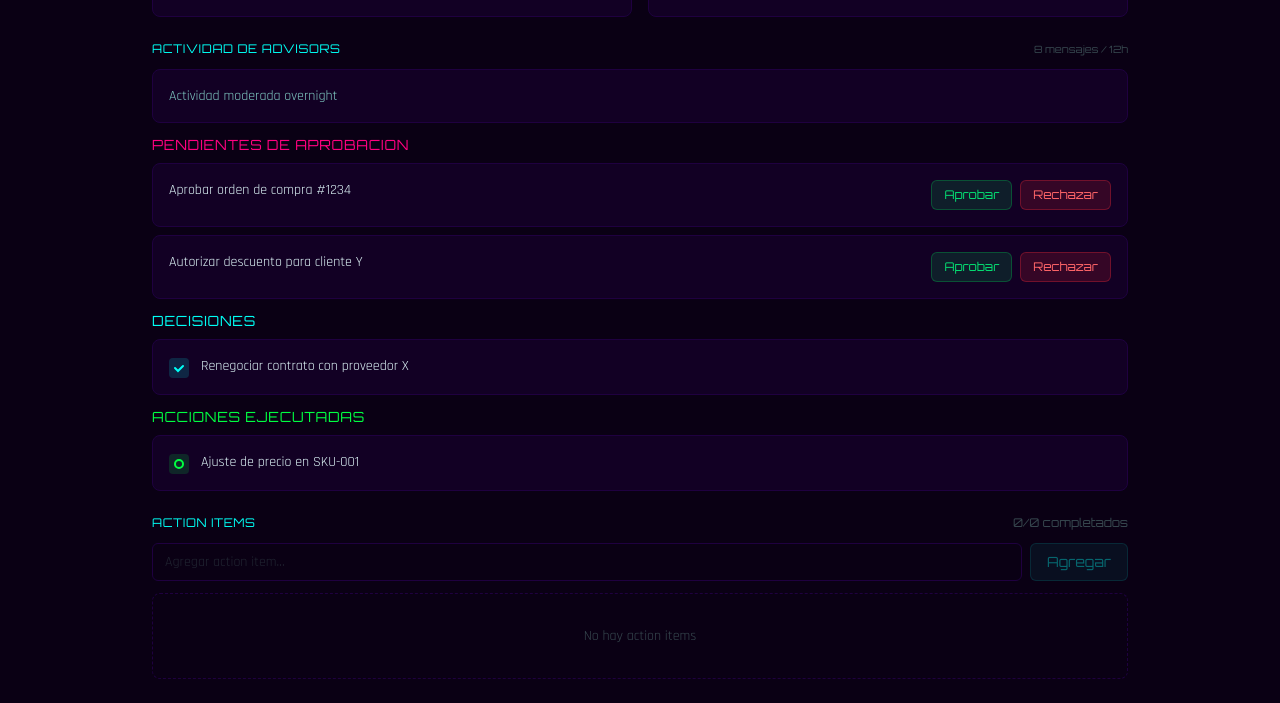
Scenario: PulseDashboardPage › checklist persists via localStorage
(page scrolled)
Expected: the element with test id "action-items" is shown, [152,515,1128,679]
Type "Persistent task" into the field with test id "new-item-input" at point(587, 562), box [152,543,1022,581]
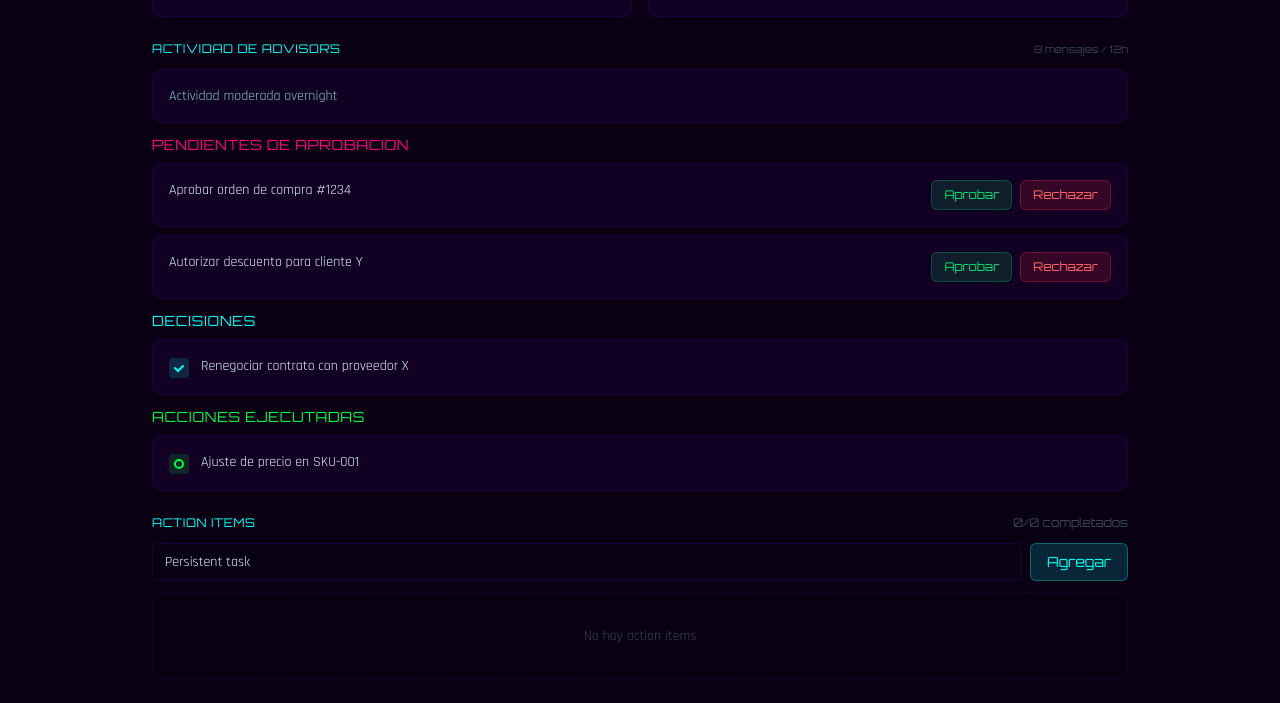
Click the button with test id "add-item-btn" at point(1079, 562), box [1030,543,1128,581]
(page scrolled)
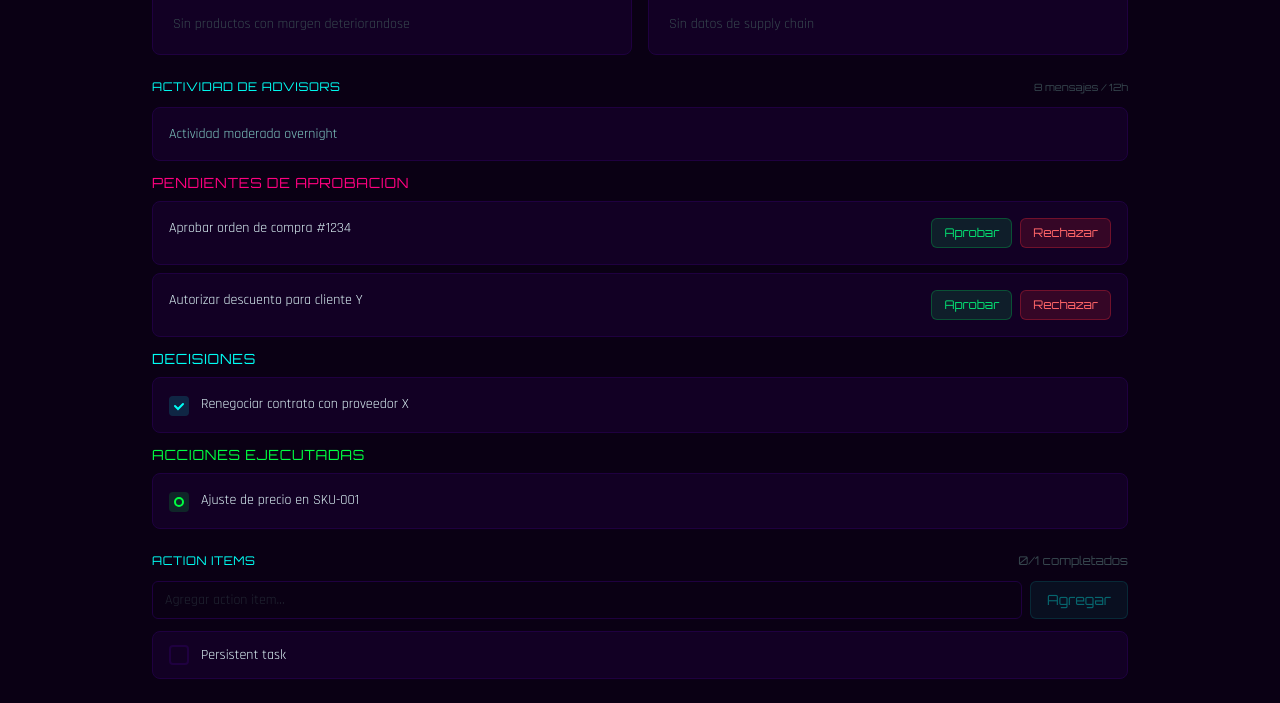
Result: the text "Persistent task" is shown at [201,646,286,664]
